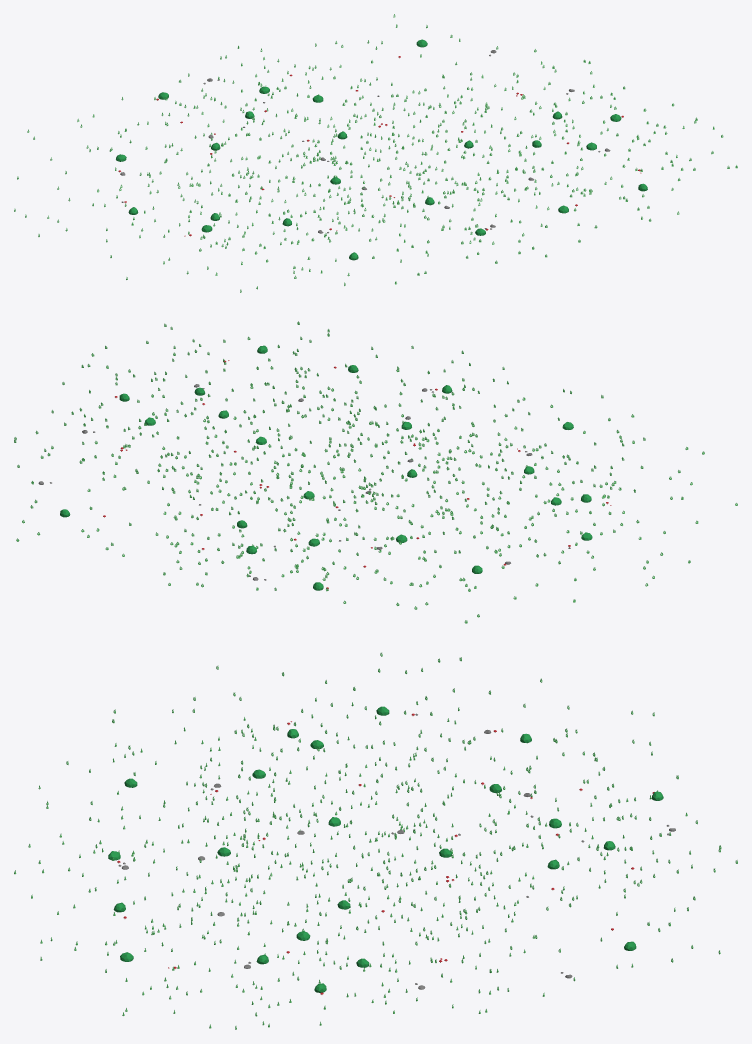
Rendered from Forest Details, Updated 3-3.fbx.
3 renders of one model, top to bottom at view 1: azimuth 30°, elevation 25°; view 2: azimuth 150°, elevation 25°; view 3: azimuth 270°, elevation 25°, orthographic. The views are drawn at different scales.
Visible parts, largest first — view 1: Icosphere.011, Icosphere.000; view 2: Icosphere.011, Icosphere.000; view 3: Icosphere.011, Icosphere.000.
Boxes of the visible parts, x1=… form: Icosphere.011: x1=14, y1=14, x2=737, y2=292; Icosphere.000: x1=116, y1=39, x2=647, y2=260; Icosphere.011: x1=14, y1=321, x2=737, y2=623; Icosphere.000: x1=60, y1=345, x2=592, y2=590; Icosphere.011: x1=14, y1=652, x2=737, y2=1029; Icosphere.000: x1=108, y1=706, x2=663, y2=992.
Bounding box in the file's own units: 5651 × 47.74 × 4617.
